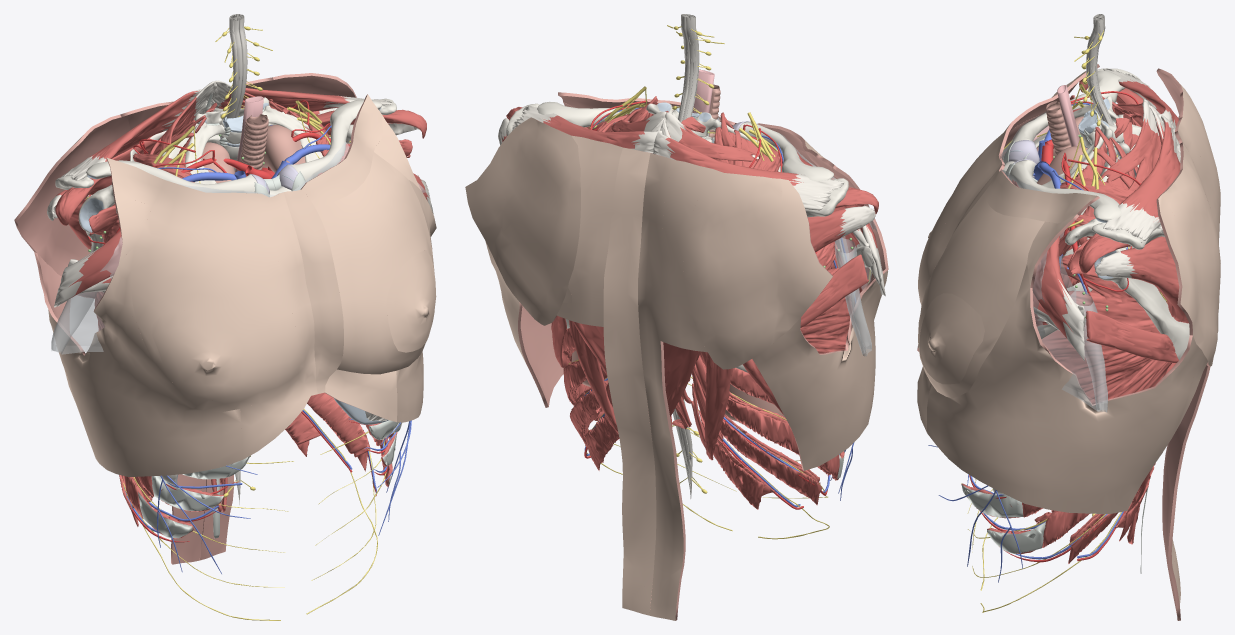
File: thorax.glb
3 views of the same model, side by side, from view 1: azimuth 30°, elevation 25°; view 2: azimuth 150°, elevation 25°; view 3: azimuth 270°, elevation 25° (orthographic). The views are drawn at different scales.
Visible parts, largest first — view 1: lateral_region_of_thorax_r, pectoral_region_r, pectoral_region_l, mammary_region_r, presternal_region_l, scapular_region_r, infraclavicular_fossa_r, presternal_region_r, mammary_region_l, infraclavicular_fossa_l, inframammary_region_r, external_intercostal_membrane_r (+35 smaller); view 2: scapular_region_r, scapular_region_l, vertebral_region_l, lateral_region_of_thorax_r, vertebral_region_r, interscapular_region_l, external_intercostal_muscles_r, interscapular_region_r, lateral_region_of_thorax_l, serratus_anterior_muscle_r, transverse_part_of_trapezius_muscle_r, external_intercostal_muscles_l (+25 smaller); view 3: lateral_region_of_thorax_l, pectoral_region_l, serratus_anterior_muscle_l, scapular_region_l, mammary_region_l, clavipectoral_fascia_l, scapula_l, transverse_part_of_trapezius_muscle_l, infraspinatus_muscle_l, infraclavicular_fossa_l, external_intercostal_muscles_l, vertebral_region_l (+31 smaller).
Part boxes in pixels (bbox=[...]): lateral_region_of_thorax_r: bbox=[34, 247, 242, 476]; pectoral_region_r: bbox=[131, 206, 299, 412]; pectoral_region_l: bbox=[317, 152, 434, 374]; mammary_region_r: bbox=[152, 310, 254, 399]; presternal_region_l: bbox=[283, 190, 343, 393]; scapular_region_r: bbox=[14, 114, 130, 276]; infraclavicular_fossa_r: bbox=[106, 158, 269, 223]; presternal_region_r: bbox=[267, 192, 317, 395]; mammary_region_l: bbox=[386, 250, 436, 352]; infraclavicular_fossa_l: bbox=[300, 94, 383, 210]; inframammary_region_r: bbox=[240, 379, 310, 459]; external_intercostal_membrane_r: bbox=[138, 455, 250, 538]; scapular_region_r: bbox=[683, 173, 832, 369]; scapular_region_l: bbox=[465, 117, 580, 325]; vertebral_region_l: bbox=[603, 147, 656, 615]; lateral_region_of_thorax_r: bbox=[752, 218, 888, 470]; vertebral_region_r: bbox=[638, 153, 685, 620]; interscapular_region_l: bbox=[556, 135, 622, 326]; external_intercostal_muscles_r: bbox=[699, 129, 850, 509]; interscapular_region_r: bbox=[660, 159, 723, 352]; lateral_region_of_thorax_l: bbox=[485, 241, 563, 407]; serratus_anterior_muscle_r: bbox=[742, 148, 852, 414]; transverse_part_of_trapezius_muscle_r: bbox=[653, 130, 844, 210]; external_intercostal_muscles_l: bbox=[562, 112, 653, 470]; lateral_region_of_thorax_l: bbox=[927, 264, 1207, 513]; pectoral_region_l: bbox=[918, 194, 1044, 398]; serratus_anterior_muscle_l: bbox=[1042, 177, 1176, 404]; scapular_region_l: bbox=[1156, 168, 1220, 366]; mammary_region_l: bbox=[919, 293, 984, 384]; clavipectoral_fascia_l: bbox=[1042, 231, 1107, 412]; scapula_l: bbox=[1065, 218, 1189, 359]; transverse_part_of_trapezius_muscle_l: bbox=[1103, 113, 1180, 240]; infraspinatus_muscle_l: bbox=[1095, 236, 1188, 323]; infraclavicular_fossa_l: bbox=[983, 170, 1099, 223]; external_intercostal_muscles_l: bbox=[1022, 142, 1155, 563]; vertebral_region_l: bbox=[1162, 131, 1210, 620].
Size of the model in its own units: 0.4003 by 0.5754 by 0.2672.
